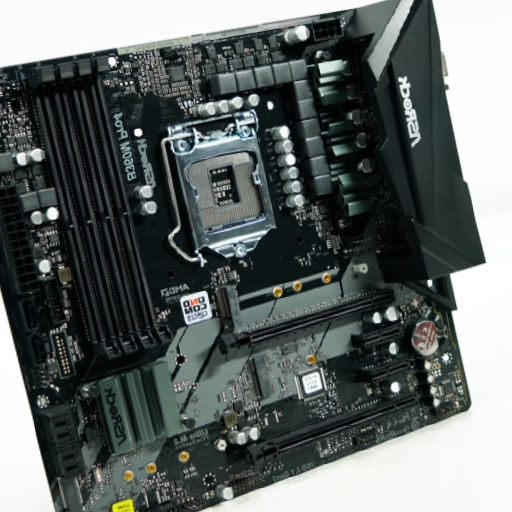CPU: (166, 109, 277, 259)
GPU: (250, 391, 418, 471), (221, 288, 398, 355)
MOTHERBOARD: (1, 2, 467, 512)
RAM: (20, 55, 174, 358)
SSD: (216, 284, 245, 329), (249, 355, 272, 400)
